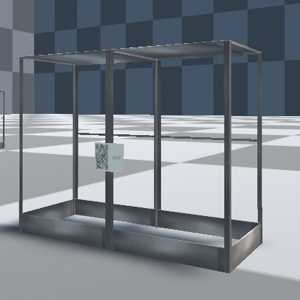Rack: (18, 37, 263, 277)
